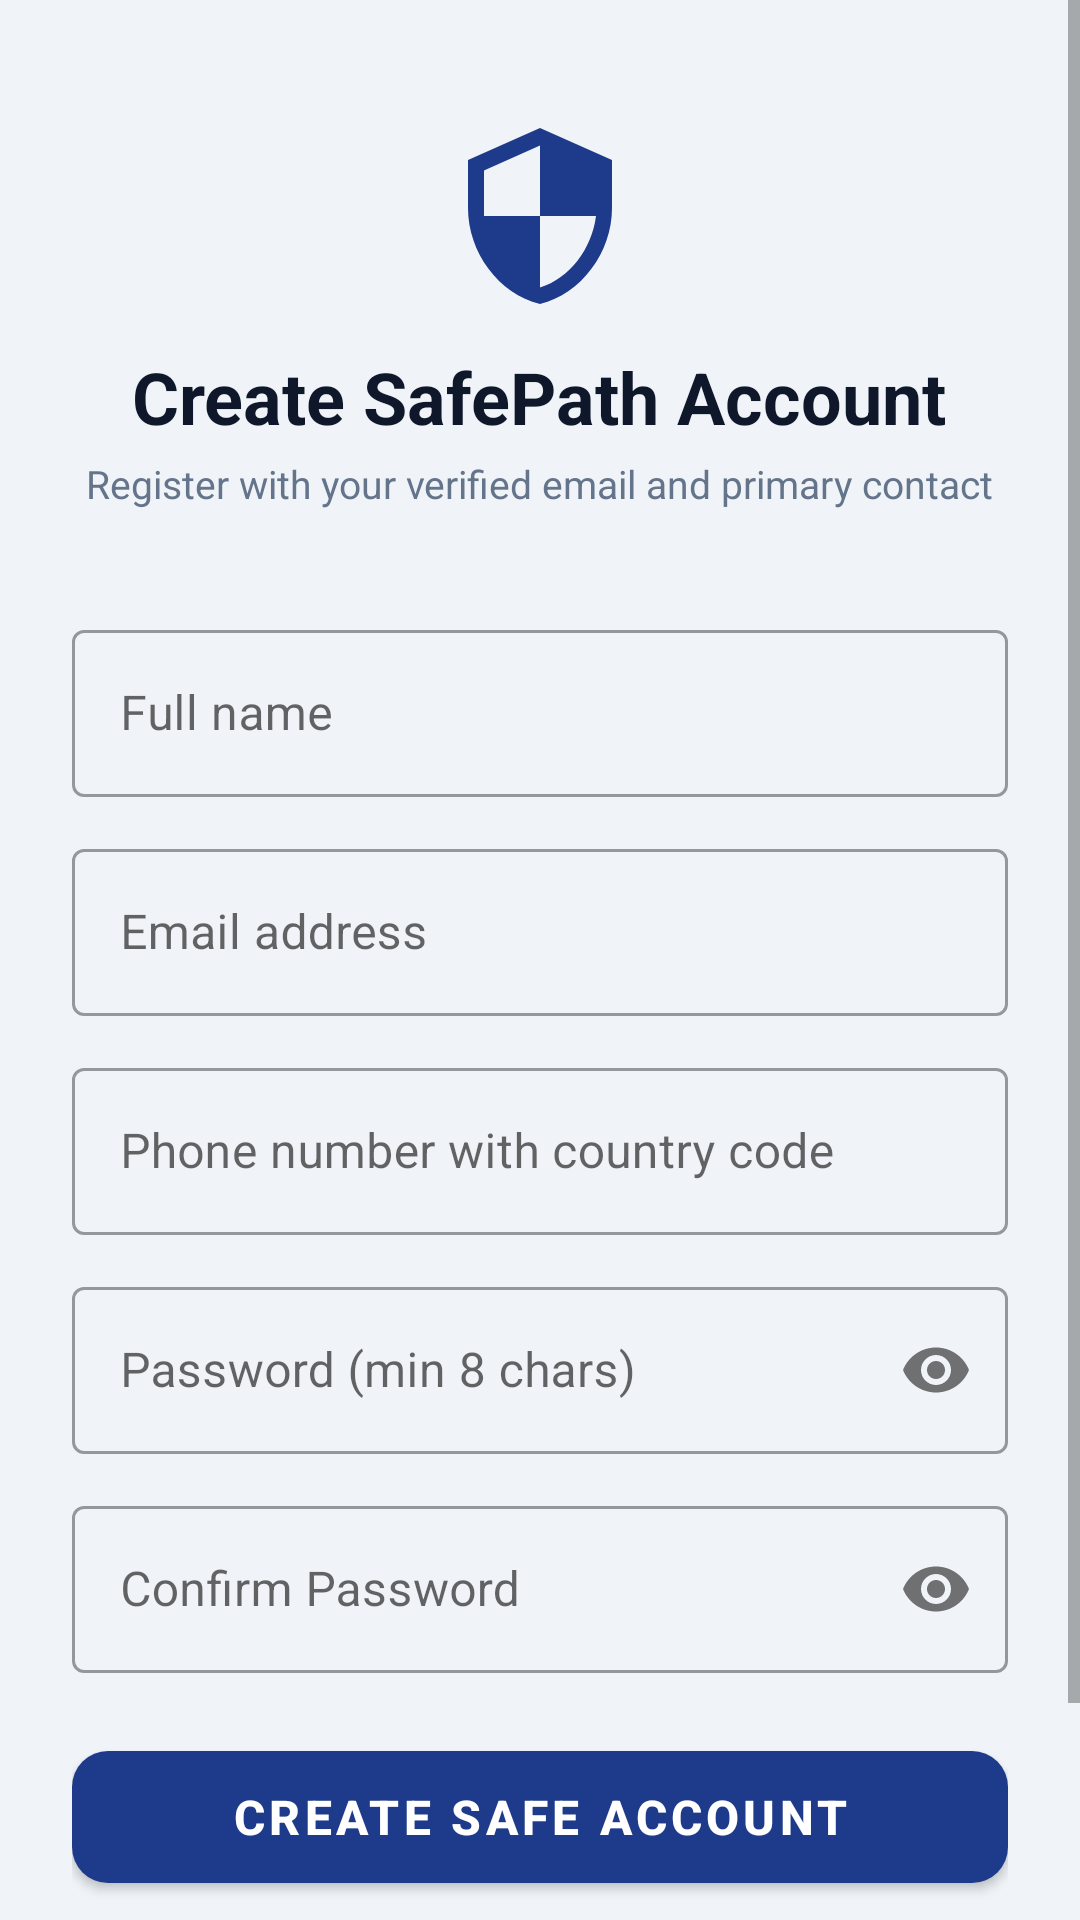

Named icons in this screenshot (1080x1920) and their bounding boxes, (x1, y1, x2, y2):
shield: (468, 128, 612, 304)
